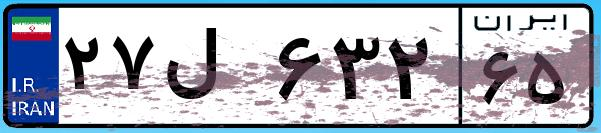2: (385, 28, 445, 110), (57, 26, 110, 100)
3: (330, 28, 385, 110)
5: (525, 38, 570, 115)
6: (270, 28, 330, 110), (475, 38, 525, 113)
7: (110, 28, 158, 98)
ل: (158, 20, 270, 120)
